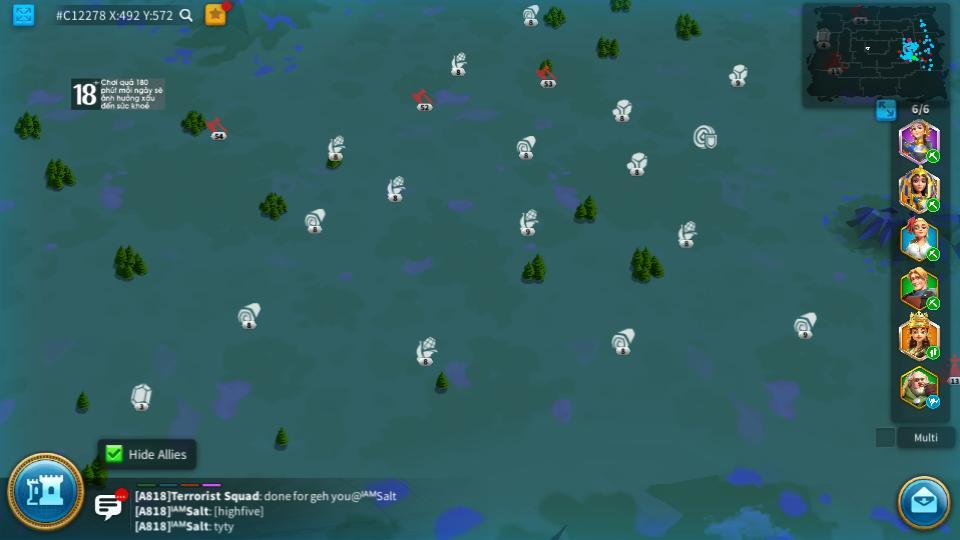gem-z-out: (129, 383, 154, 409)
march_farming: (925, 197, 941, 212)
march_idle: (925, 396, 942, 408)
march_marching: (926, 345, 941, 359), (925, 150, 941, 162), (925, 297, 942, 308)
